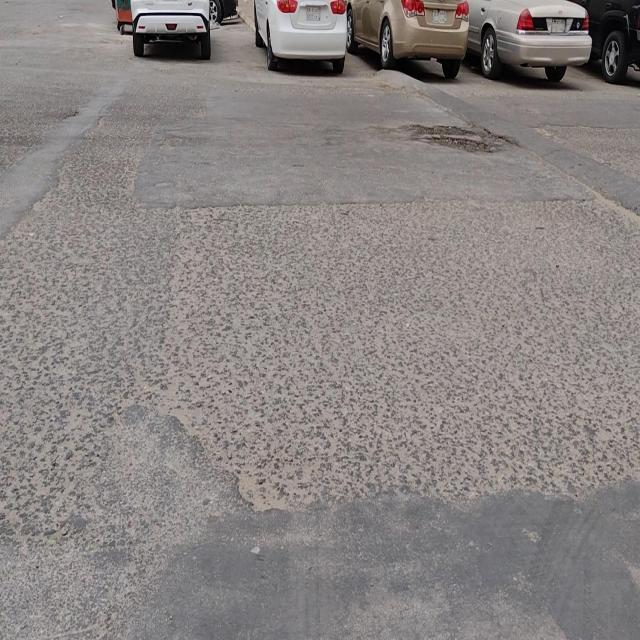Potholes: (408, 120, 507, 156)
